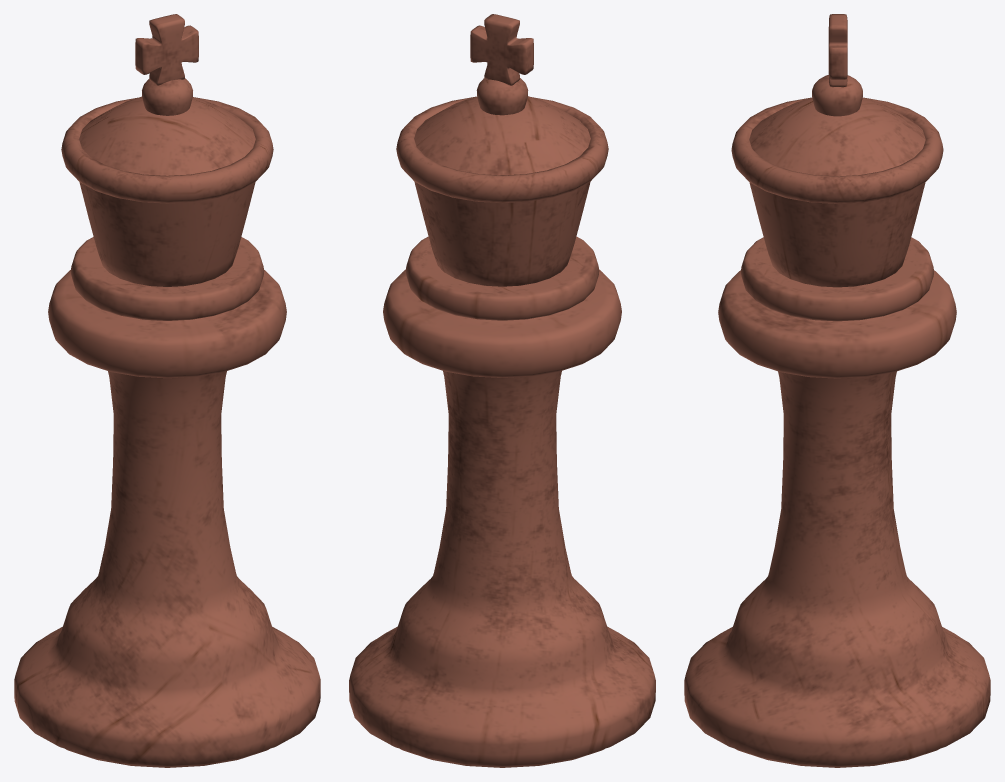
File: GEO_BlackKing.obj
The picture shows the model from 3 angles, left to right: view 1: azimuth 30°, elevation 25°; view 2: azimuth 150°, elevation 25°; view 3: azimuth 270°, elevation 25°; orthographic projection.
Parts seen in each view (by area): view 1: GEO_BlackKing; view 2: GEO_BlackKing; view 3: GEO_BlackKing.
Part boxes in pixels (box(x1,y1,x2,y2)): GEO_BlackKing: box(14, 14, 320, 767); GEO_BlackKing: box(349, 14, 655, 767); GEO_BlackKing: box(684, 14, 990, 767).
Size of the model in its own units: 0.0429 by 0.1066 by 0.0429.
